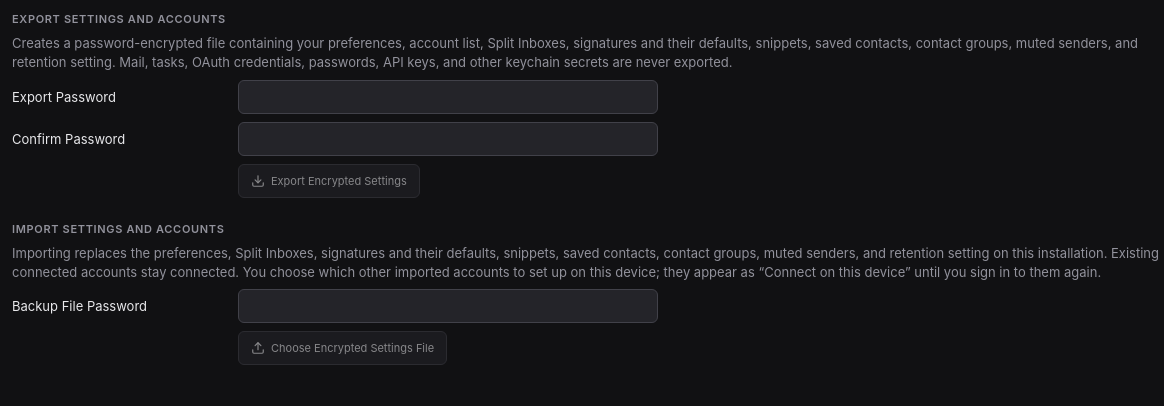
data transfer settings › reports an import failure as an error, not a hint
The image size is (1164, 406).
In the password field labelled "Backup File Password": (448, 306) [238,289,658,323], type "correct horse"
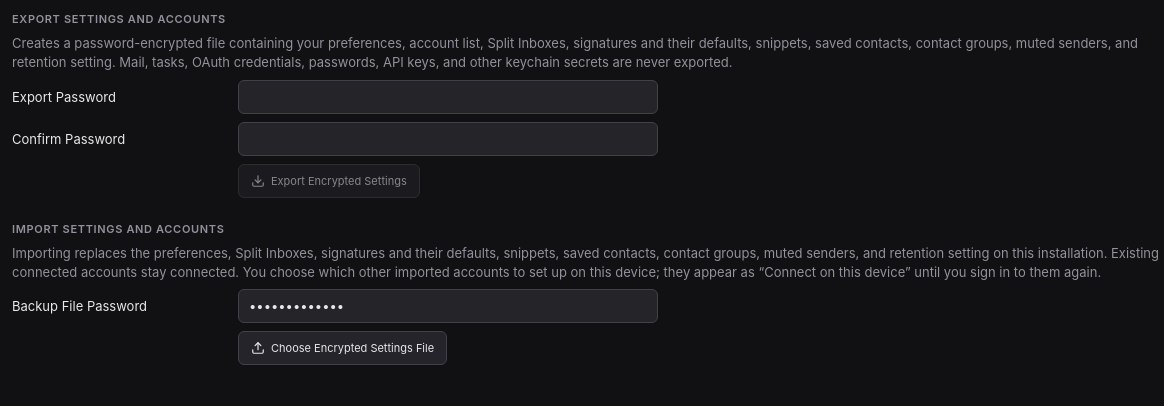
Click the button "Choose Encrypted Settings File": click(343, 348) [238,331,447,365]
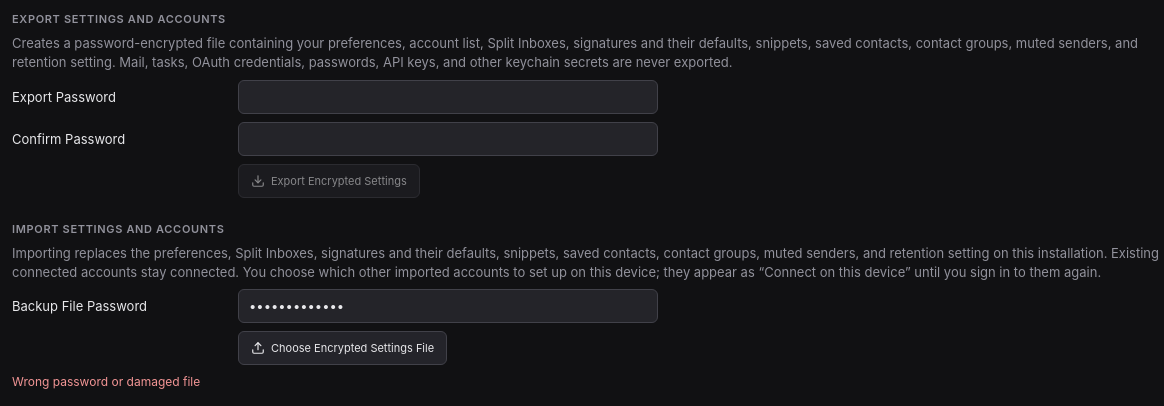
Now the message reads "Wrong password or damaged file", box [12,374,200,389]
